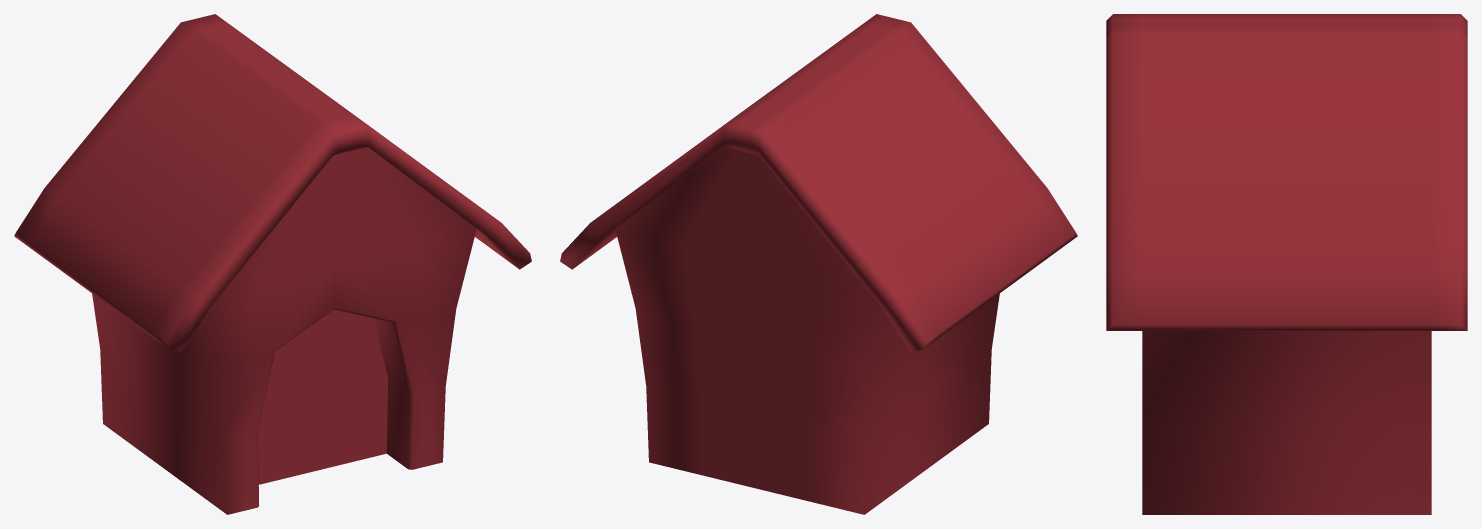
File: DogHouse.glb
3 renders of one model, left to right at view 1: azimuth 30°, elevation 25°; view 2: azimuth 150°, elevation 25°; view 3: azimuth 270°, elevation 25°, orthographic. The views are drawn at different scales.
Parts seen in each view (by area): view 1: DogHouse; view 2: DogHouse; view 3: DogHouse.
Part boxes in pixels (left/top/right/bottom): DogHouse: left=14, top=14, right=531, bottom=514; DogHouse: left=560, top=14, right=1077, bottom=514; DogHouse: left=1106, top=14, right=1467, bottom=514.
Size of the model in its own units: 3.38 by 3.28 by 2.5.
